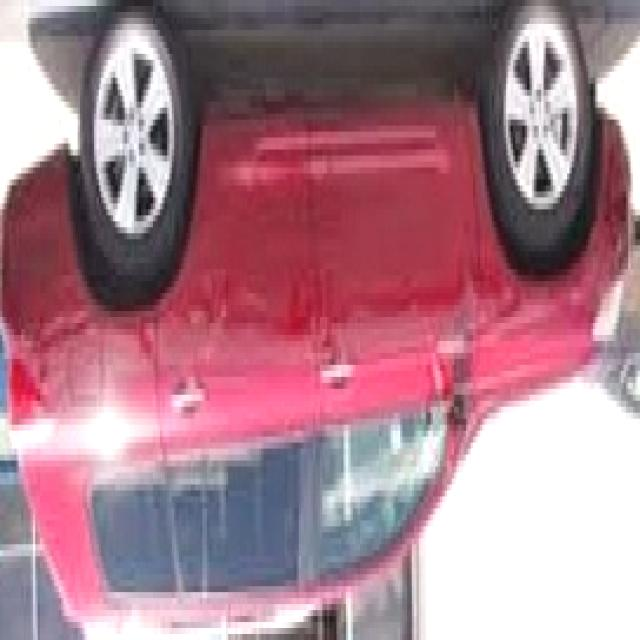red: (0, 88, 629, 628)
